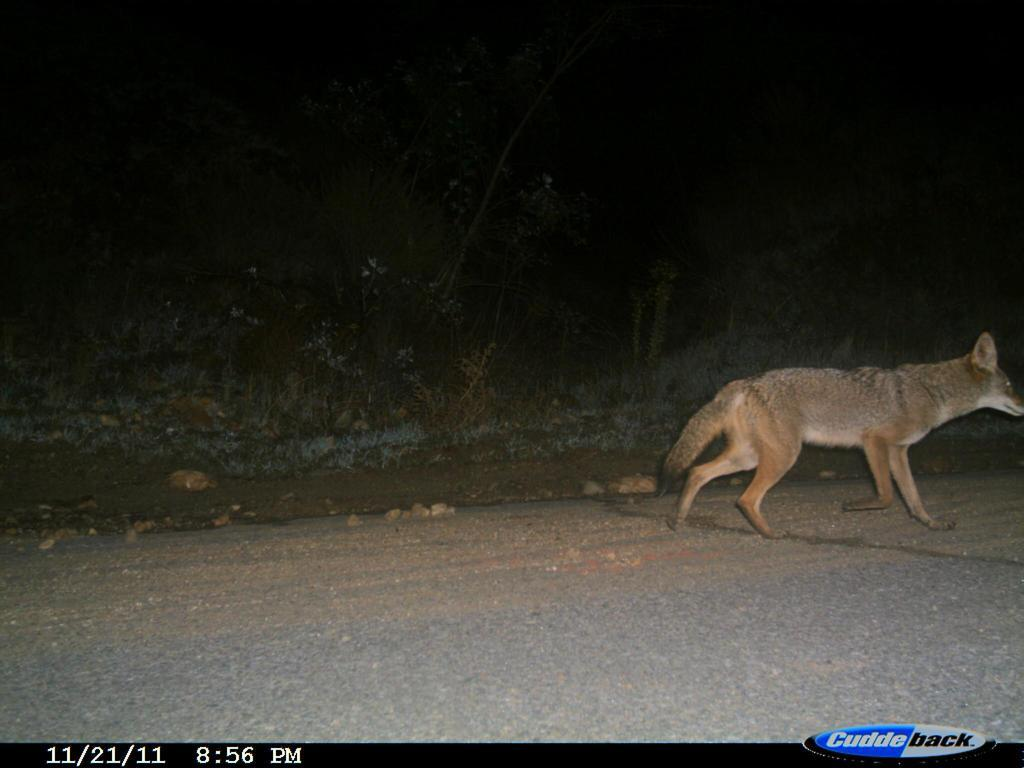coyote: (651, 314, 1023, 539)
